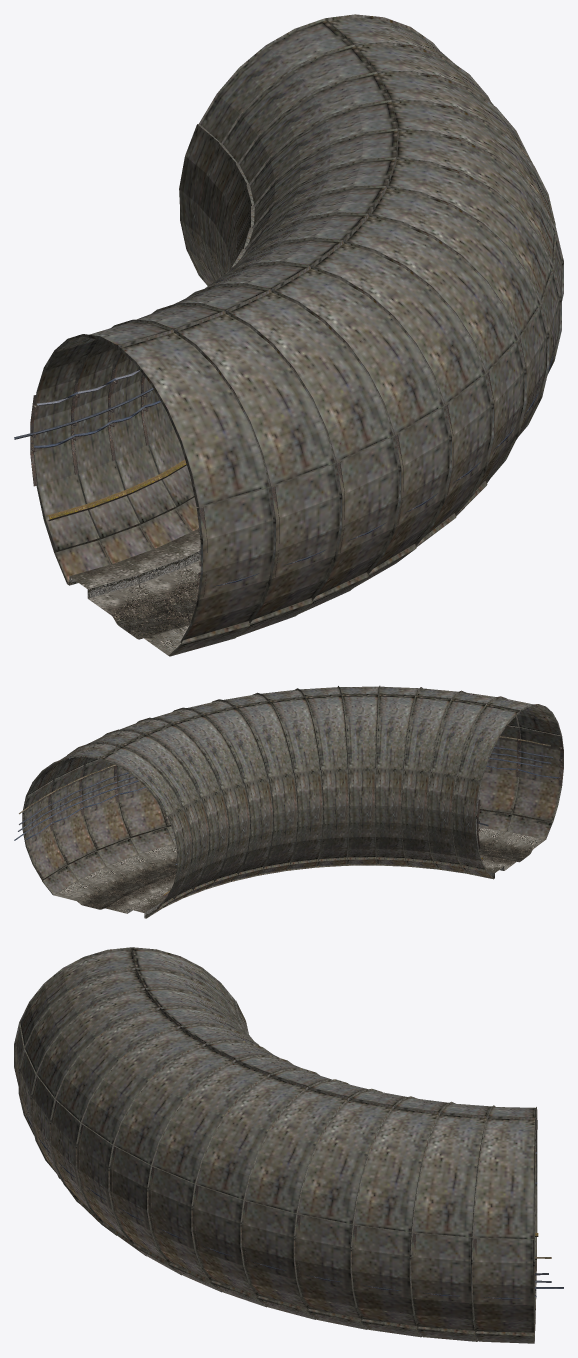
The model's file is tunnel_beton90.obj.
The picture shows the model from 3 angles, top to bottom: view 1: azimuth 30°, elevation 25°; view 2: azimuth 150°, elevation 25°; view 3: azimuth 270°, elevation 25°; orthographic projection. The views are drawn at different scales.
Parts seen in each view (by area): view 1: concrete_tile_019, floor_tunnel_pod012, metal_trub_tonnel012, metal_corr_dsc, concrete_8; view 2: concrete_tile_019, floor_tunnel_pod012, metal_trub_tonnel012, metal_corr_dsc; view 3: concrete_tile_019, metal_corr_dsc, metal_trub_tonnel012.
Part boxes in pixels (left/top/right/bottom): concrete_tile_019: left=33, top=14, right=563, bottom=656; floor_tunnel_pod012: left=67, top=529, right=200, bottom=655; metal_trub_tonnel012: left=14, top=357, right=552, bottom=586; metal_corr_dsc: left=30, top=339, right=526, bottom=598; concrete_8: left=87, top=551, right=200, bottom=598; concrete_tile_019: left=22, top=685, right=563, bottom=918; floor_tunnel_pod012: left=54, top=827, right=545, bottom=918; metal_trub_tonnel012: left=14, top=705, right=560, bottom=897; metal_corr_dsc: left=48, top=728, right=563, bottom=848; concrete_tile_019: left=14, top=947, right=537, bottom=1343; metal_corr_dsc: left=15, top=1028, right=476, bottom=1301; metal_trub_tonnel012: left=26, top=1113, right=563, bottom=1299.
Size of the model in its own units: 20.27 by 8.25 by 20.64.
